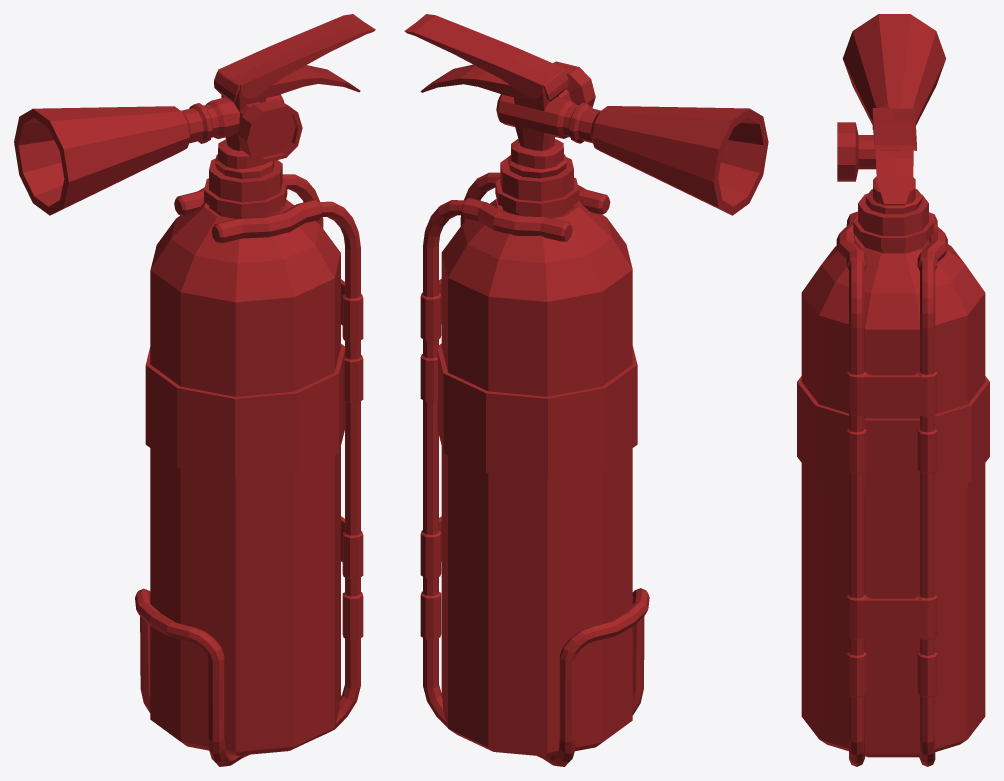
The model's file is INT_Extintor.fbx.
3 views of the same model, side by side, from view 1: azimuth 30°, elevation 25°; view 2: azimuth 150°, elevation 25°; view 3: azimuth 270°, elevation 25° (orthographic). The views are drawn at different scales.
Visible parts, largest first — view 1: m_Extintor; view 2: m_Extintor; view 3: m_Extintor.
Boxes of the visible parts, <box> form: m_Extintor: <box>14,14,375,766</box>; m_Extintor: <box>404,14,768,766</box>; m_Extintor: <box>797,14,989,766</box>.
Bounding box in the file's own units: 70.11 × 142 × 38.3.
